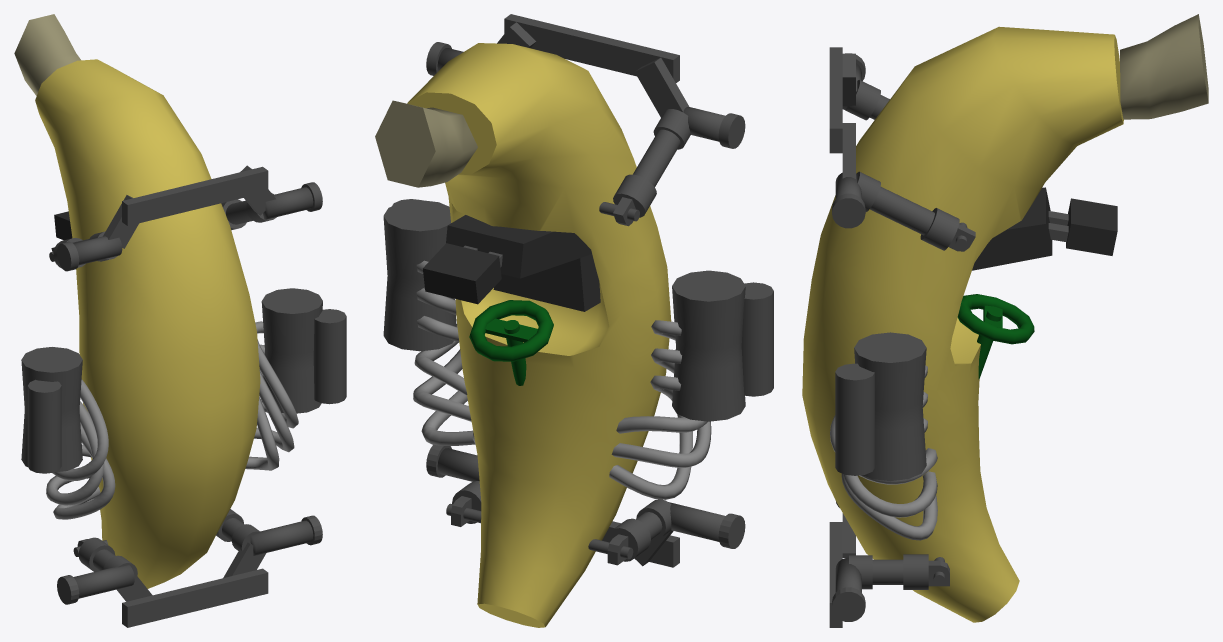
The model's file is KartBody.fbx.
The picture shows the model from 3 angles, left to right: view 1: azimuth 30°, elevation 25°; view 2: azimuth 150°, elevation 25°; view 3: azimuth 270°, elevation 25°; orthographic projection. The views are drawn at different scales.
Parts seen in each view (by area): view 1: KartBody; view 2: KartBody; view 3: KartBody.
Part boxes in pixels (x1=…): KartBody: x1=14, y1=14, x2=346, y2=627; KartBody: x1=375, y1=14, x2=773, y2=627; KartBody: x1=802, y1=14, x2=1208, y2=627.
Size of the model in its own units: 2.31 by 3.54 by 2.19.
